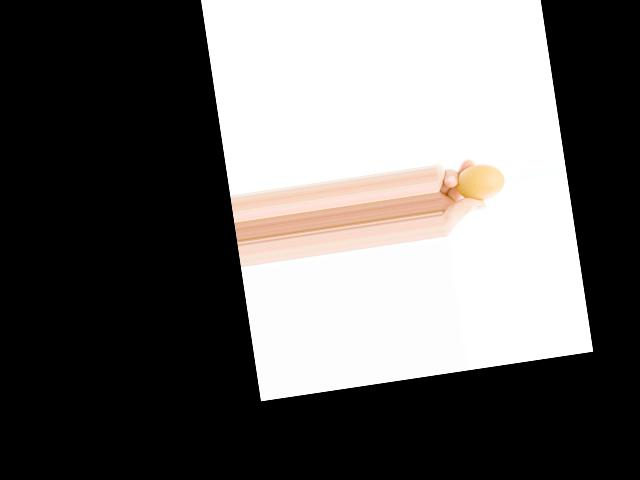egg: (454, 160, 506, 203)
